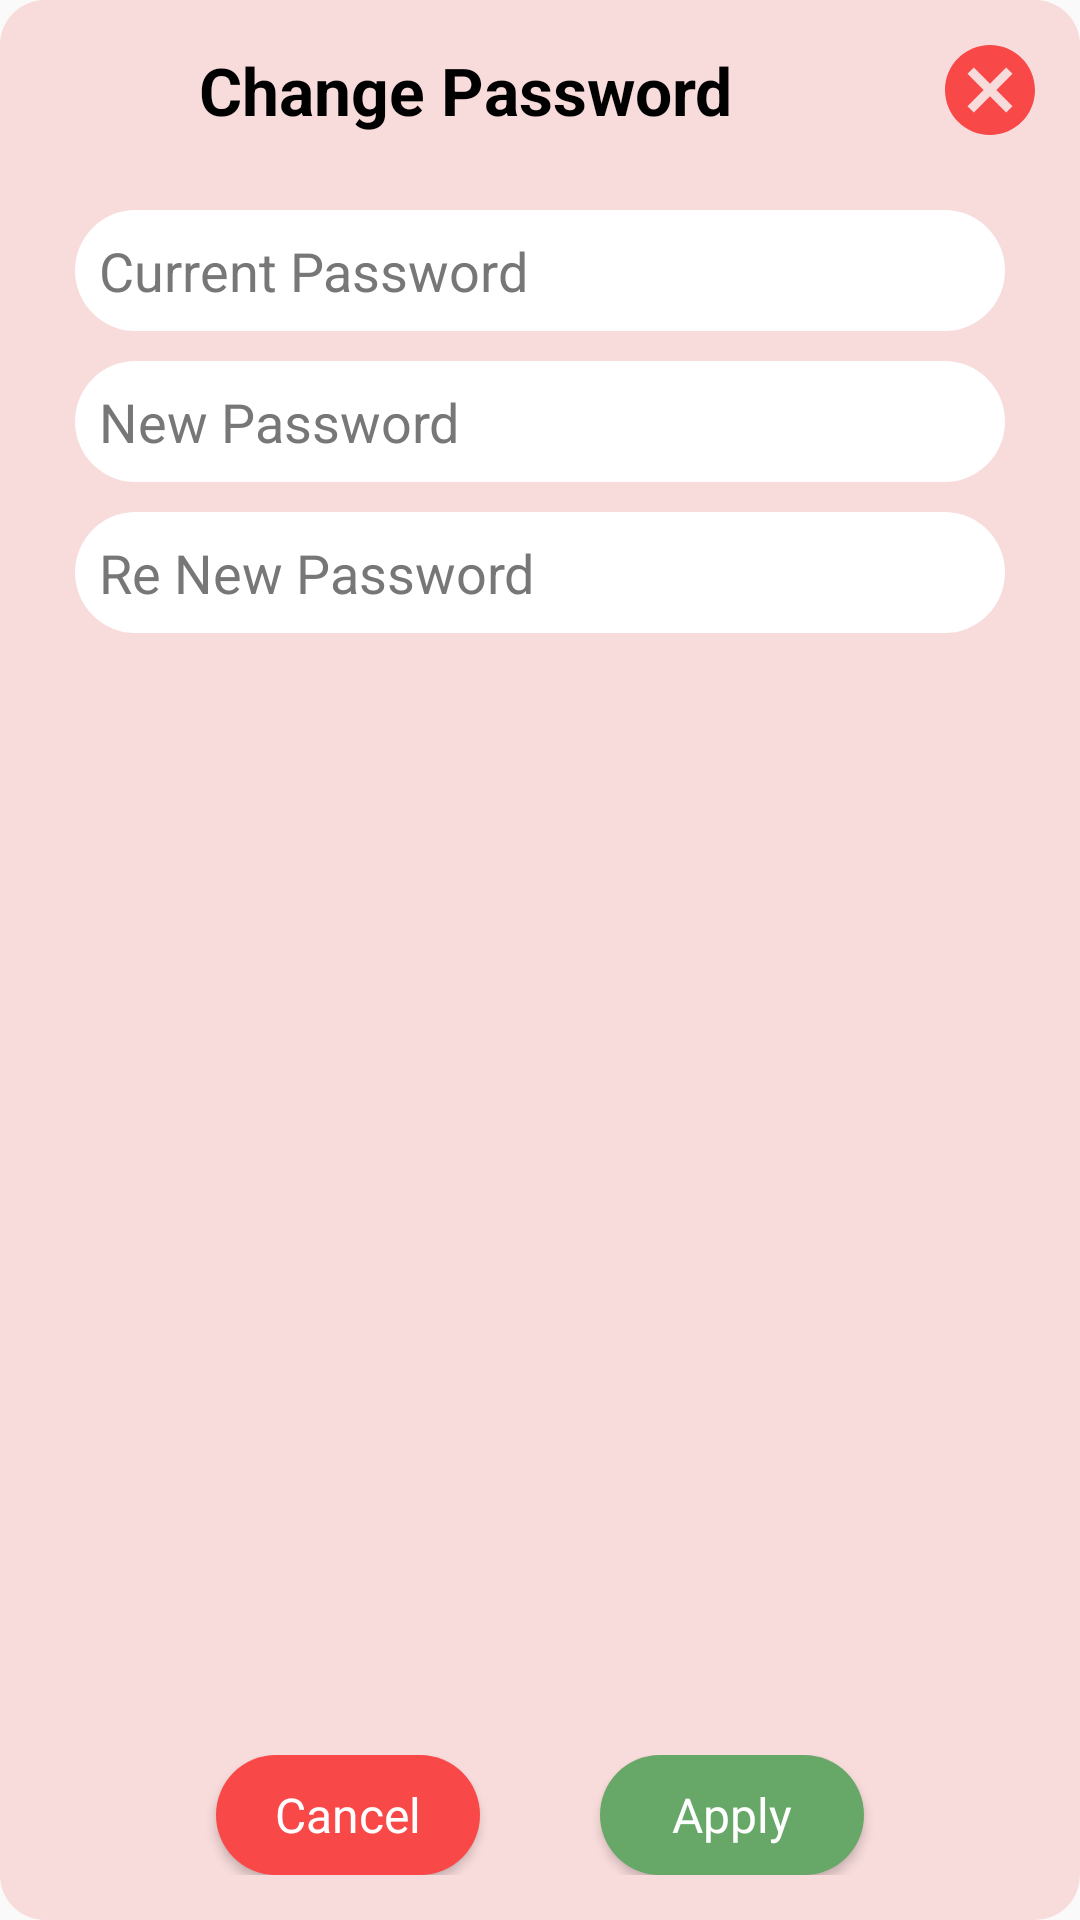

Point at icon controls on the screen. Image size 1080*1920, points as point (x, y).
close: point (990, 90)
